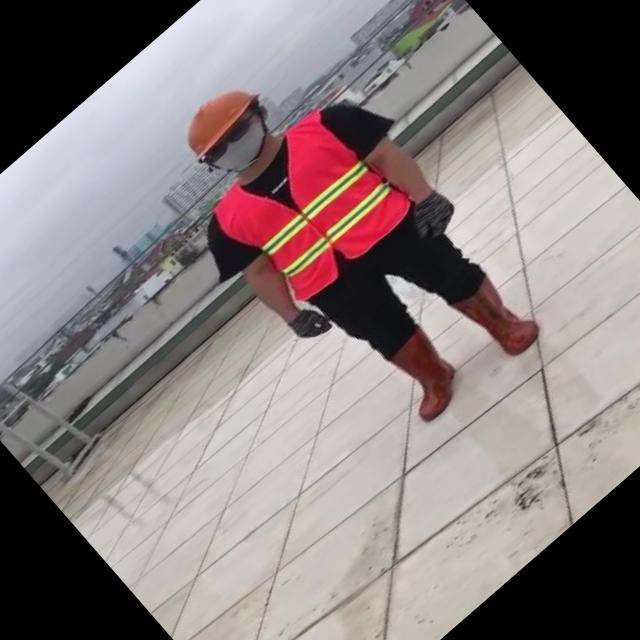hard_hat: (166, 69, 270, 168)
safety_vest: (198, 100, 418, 318)
vehicle: (123, 11, 578, 482)
work_boots: (376, 327, 474, 428), (452, 269, 548, 369)
